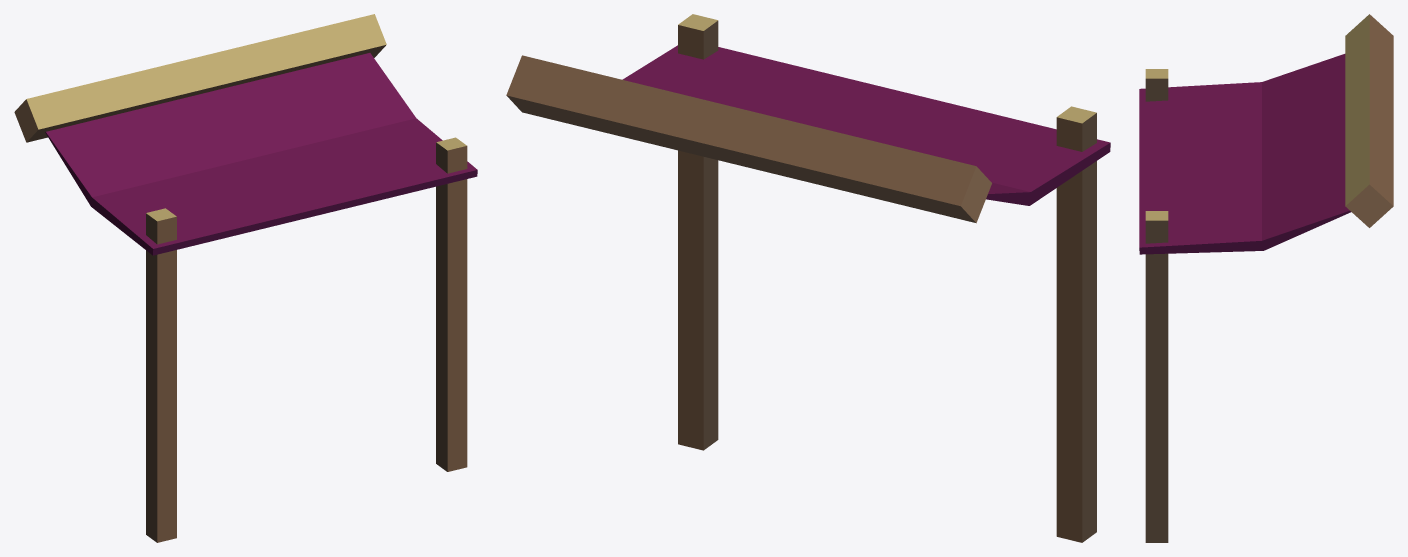
Rendered from TB_D_Bd_Canopy_WLeg_E.FBX.
The picture shows the model from 3 angles, left to right: view 1: azimuth 30°, elevation 25°; view 2: azimuth 150°, elevation 25°; view 3: azimuth 270°, elevation 25°; orthographic projection. The views are drawn at different scales.
Visible parts, largest first — view 1: TB_D_Bd_Canopy_WLeg_E; view 2: TB_D_Bd_Canopy_WLeg_E; view 3: TB_D_Bd_Canopy_WLeg_E.
Part boxes in pixels (bbox=[...]): TB_D_Bd_Canopy_WLeg_E: bbox=[14, 14, 477, 542]; TB_D_Bd_Canopy_WLeg_E: bbox=[506, 14, 1110, 542]; TB_D_Bd_Canopy_WLeg_E: bbox=[1139, 14, 1393, 542].
Size of the model in its own units: 2.5 by 2.52 by 1.58.
